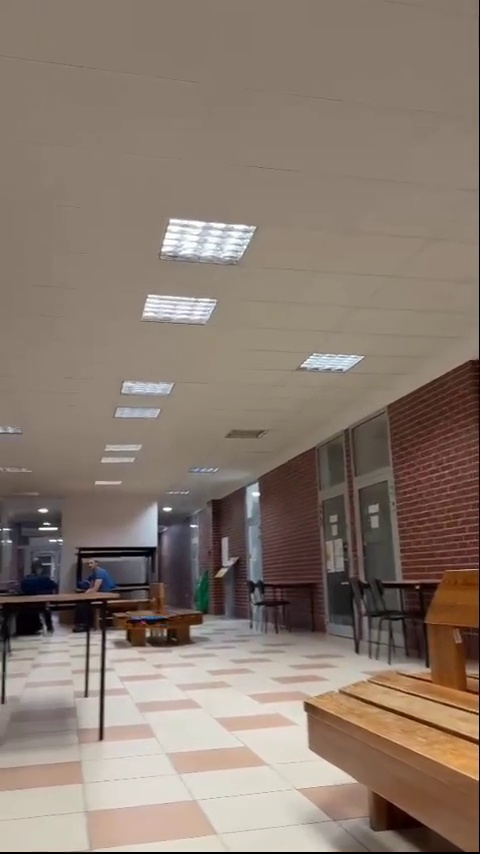drone: (131, 614, 170, 631)
no vest: (14, 556, 56, 626), (80, 556, 113, 602)
